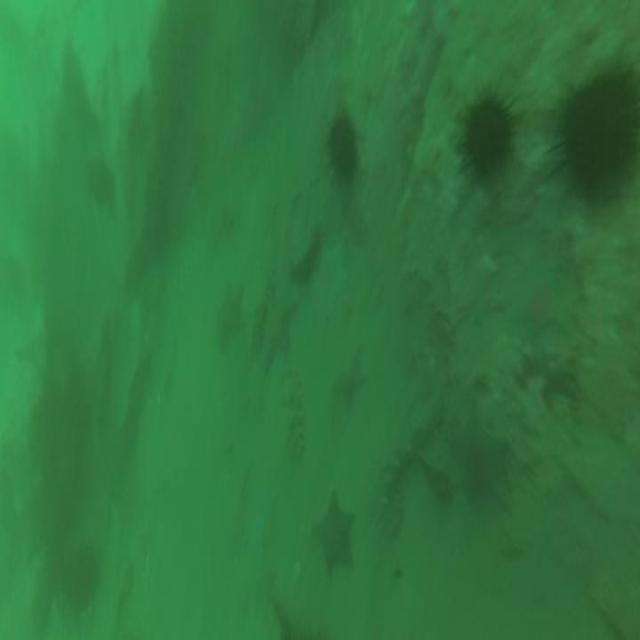echinus: (552, 71, 640, 202), (455, 85, 523, 184), (324, 102, 362, 186), (82, 147, 116, 212)
starfish: (448, 403, 516, 518), (309, 488, 359, 583), (531, 333, 583, 414), (253, 299, 300, 373), (212, 284, 248, 352), (335, 351, 369, 411)
